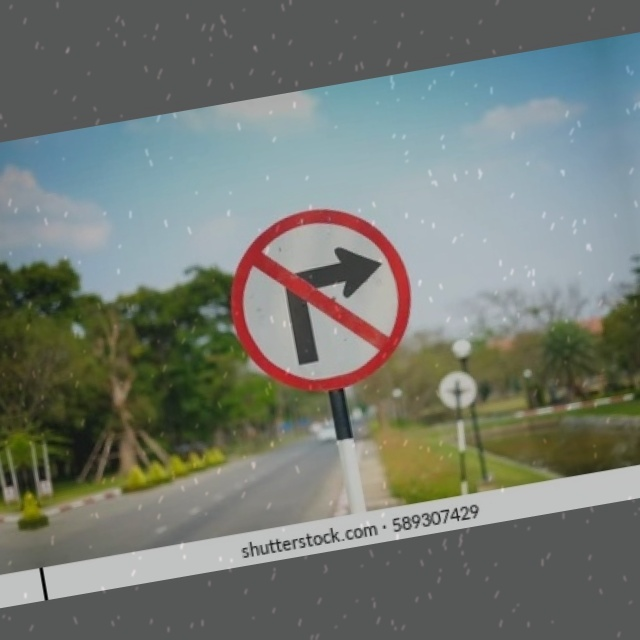Right_Turn_Prohibited: (216, 195, 428, 407)
